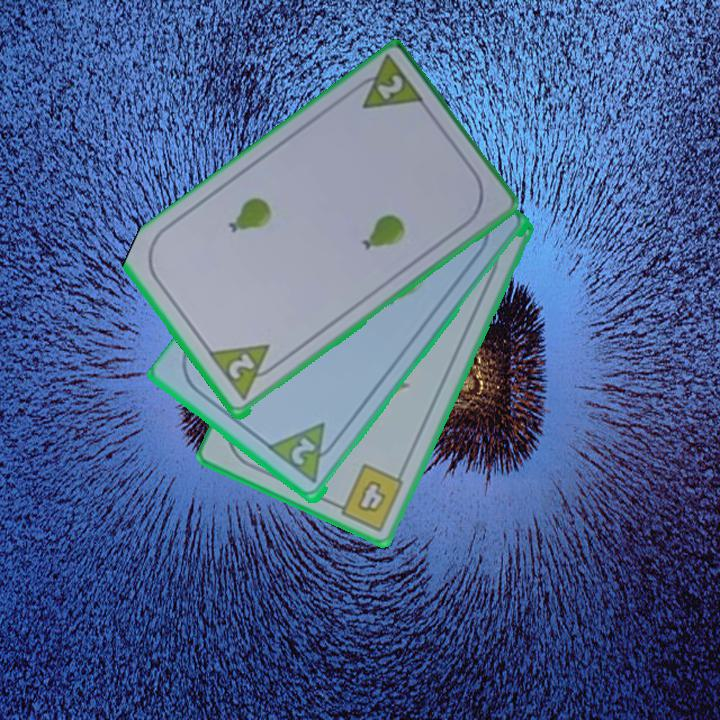2p: (224, 350, 258, 383), (287, 434, 319, 469), (373, 71, 406, 104)
4b: (328, 460, 407, 535)
